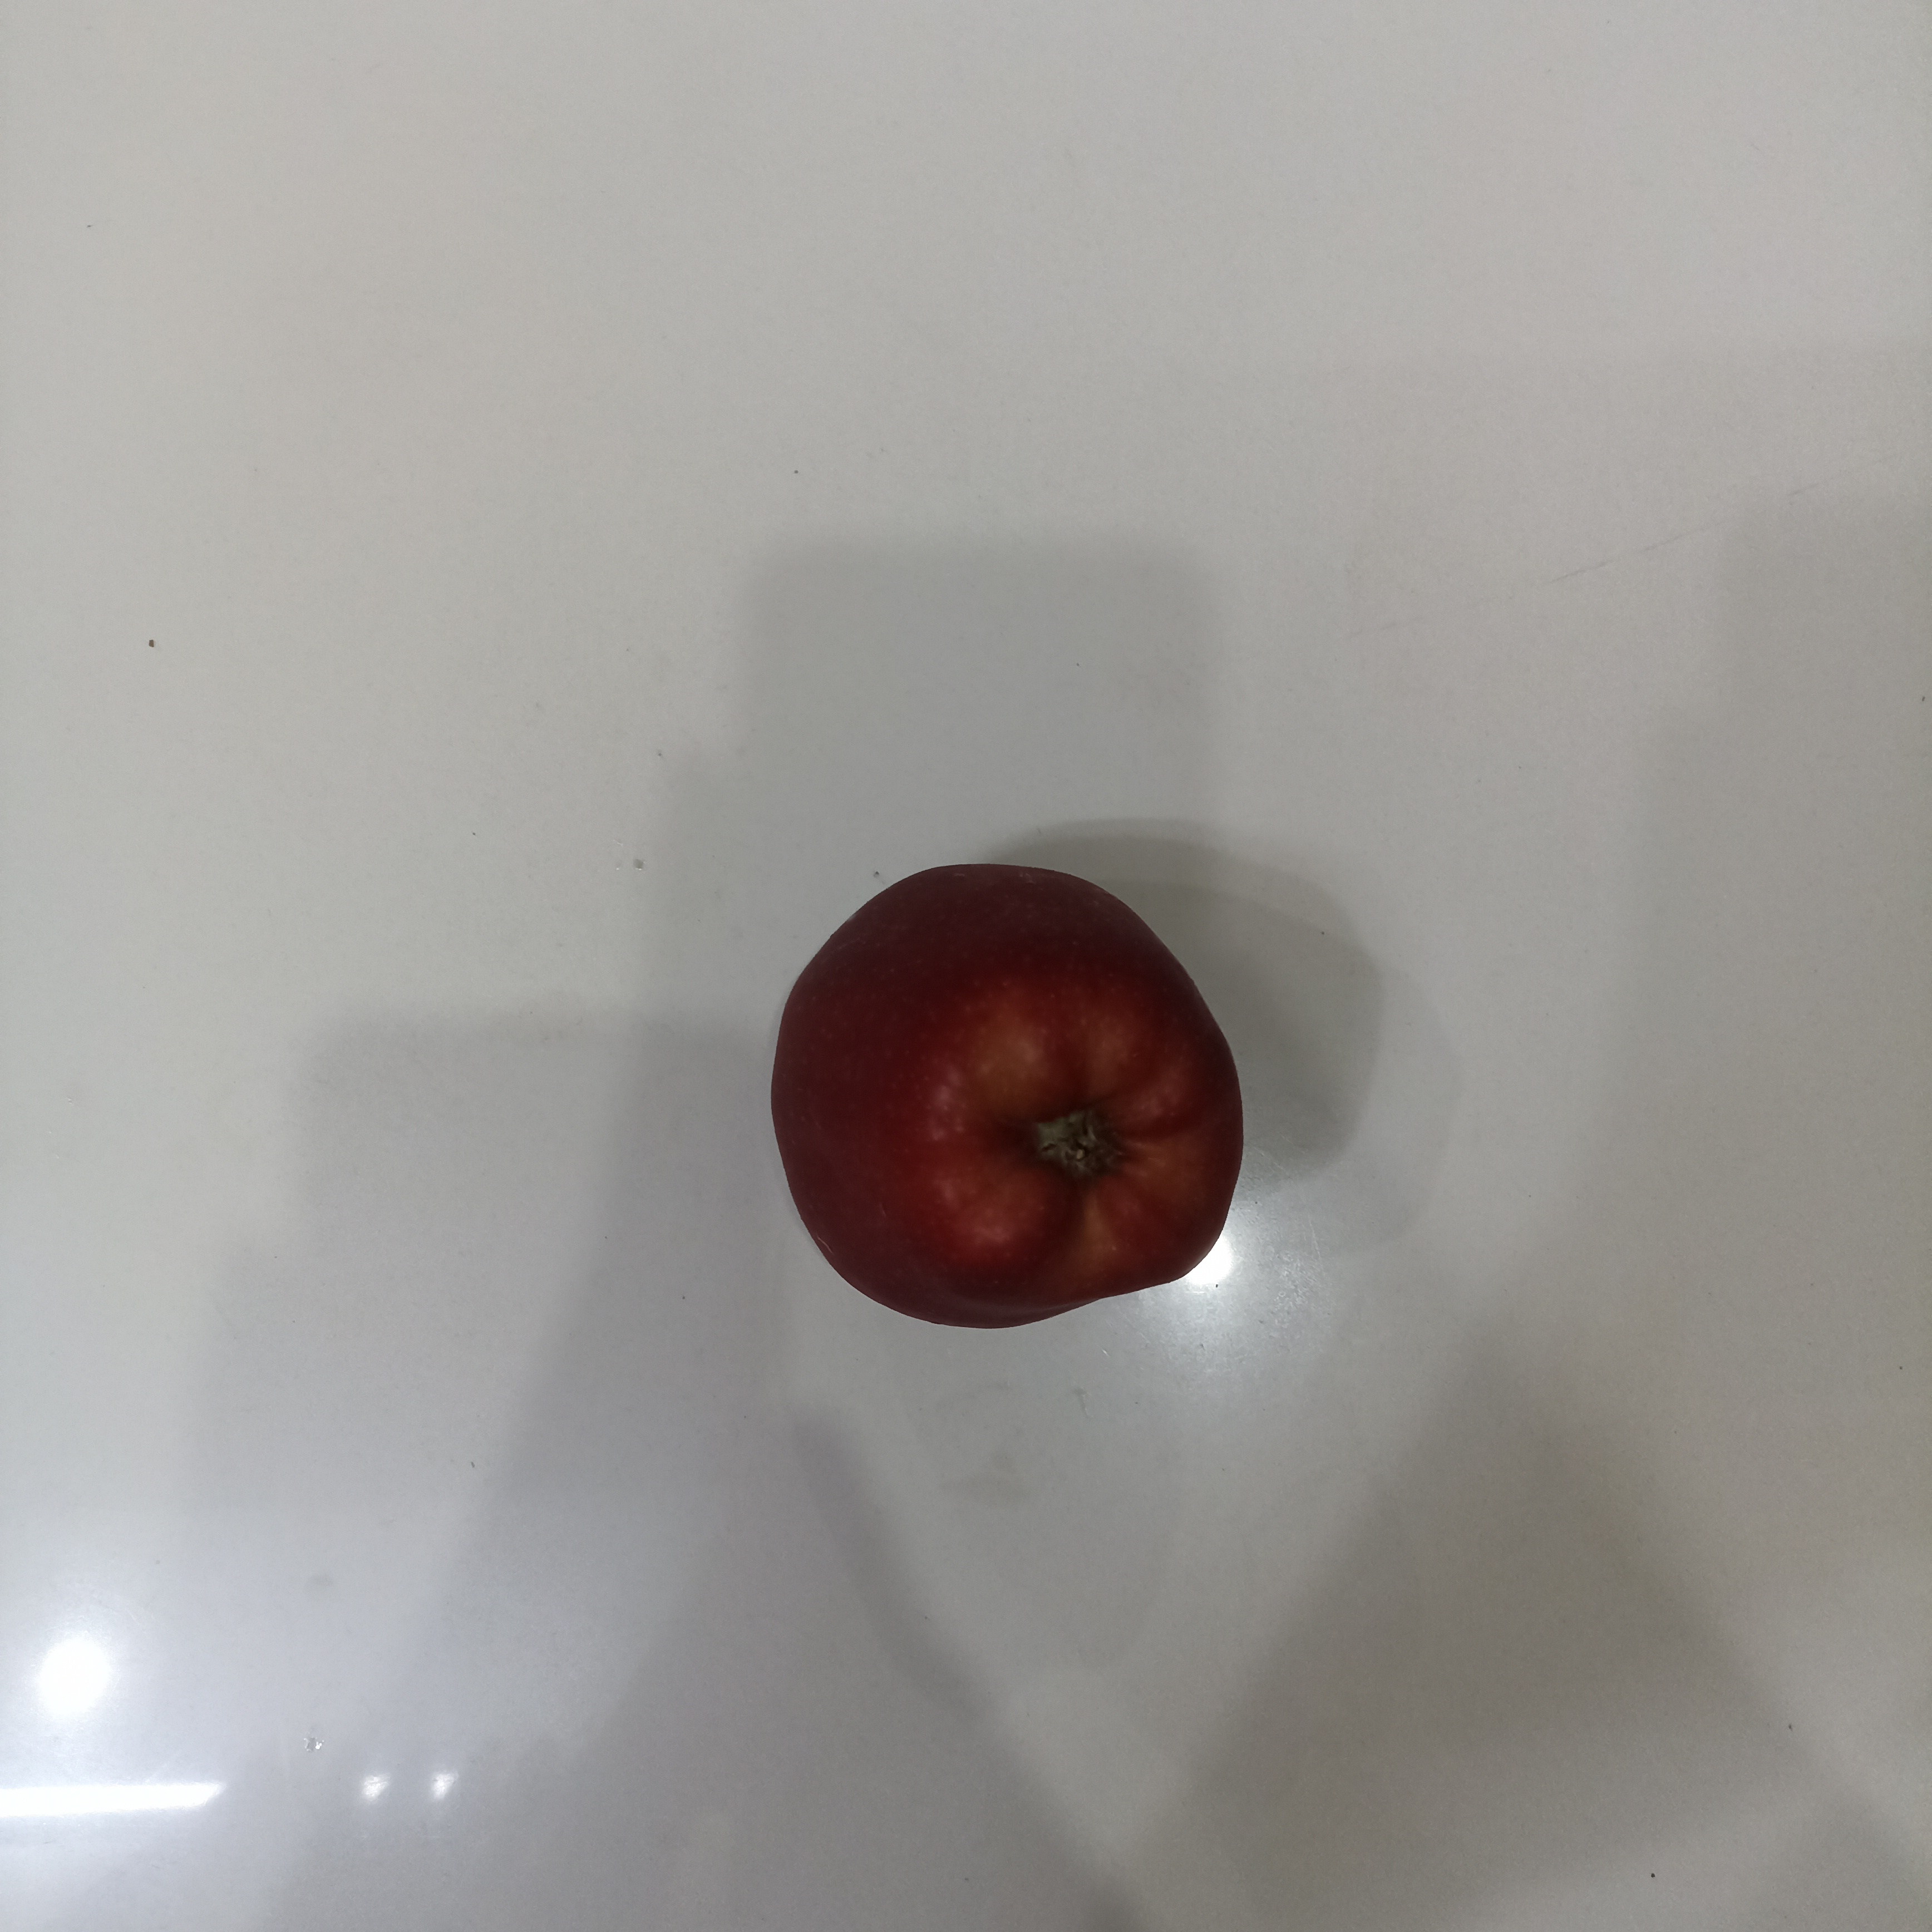Tao do: (771, 858, 1242, 1329)
